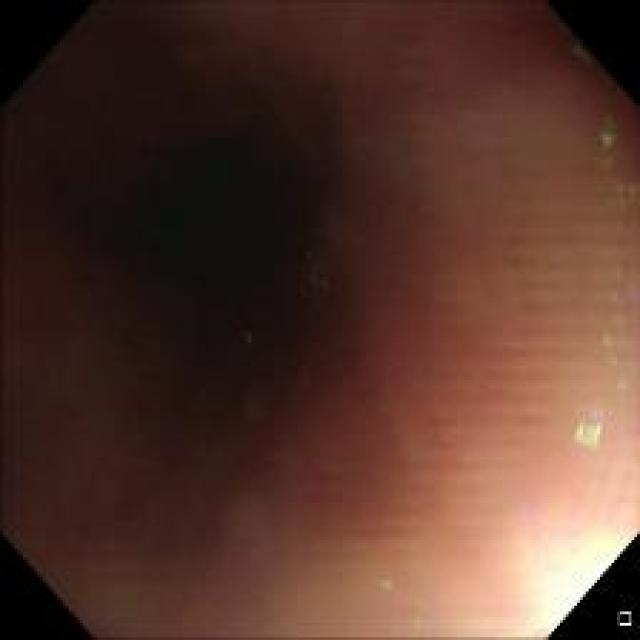color misalignment: (588, 105, 634, 454), (376, 564, 422, 638), (571, 409, 618, 458), (241, 330, 255, 348)
contrast: (72, 94, 359, 515)
saturation: (544, 540, 616, 610)
